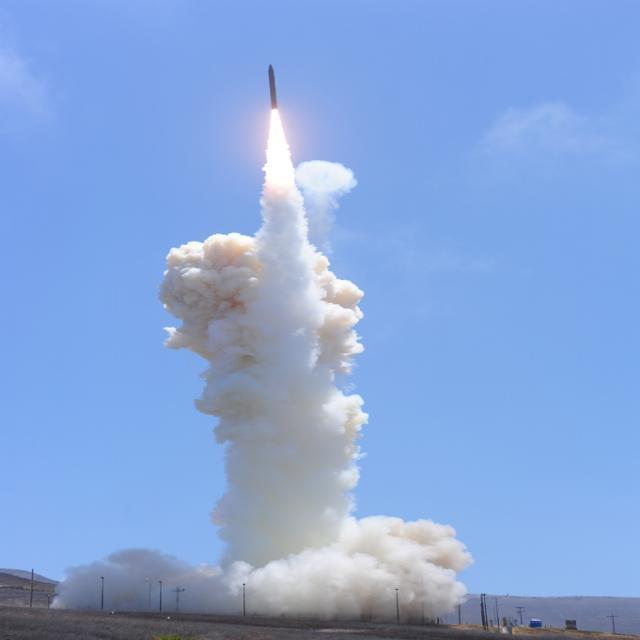missile: (266, 60, 280, 116)
